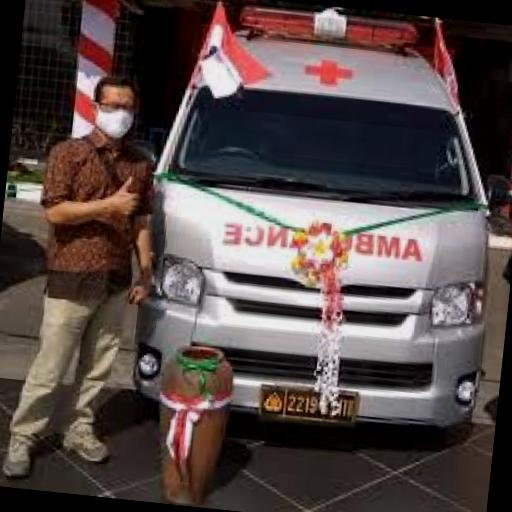Police car: (129, 0, 512, 427)
